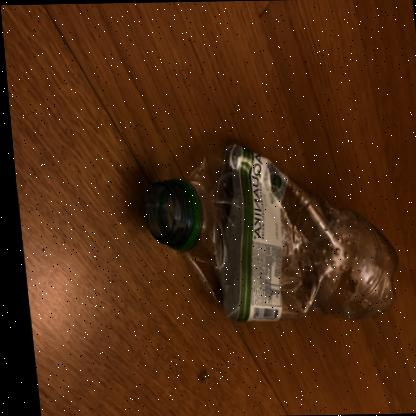Plastic: (140, 142, 393, 320)
